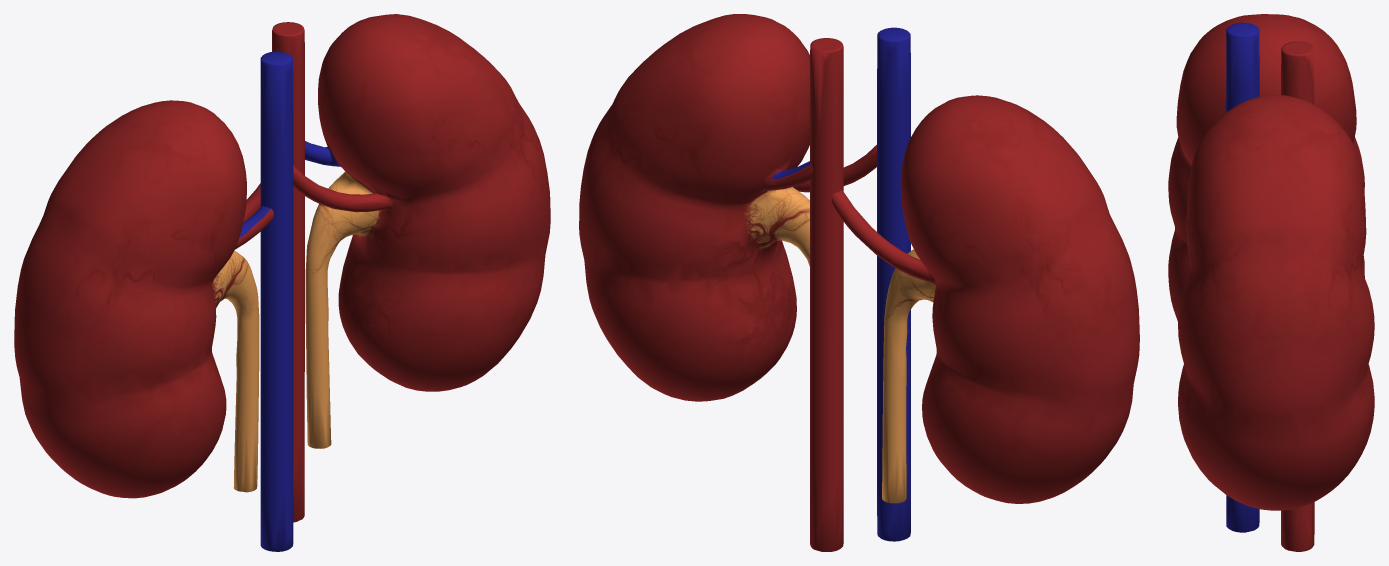
File: PRP_Kidney.glb
3 views of the same model, side by side, from view 1: azimuth 30°, elevation 25°; view 2: azimuth 150°, elevation 25°; view 3: azimuth 270°, elevation 25° (orthographic). The views are drawn at different scales.
Visible parts, largest first — view 1: kidney02:kidney03:Group12708_Kidney Tex_0; view 2: kidney02:kidney03:Group12708_Kidney Tex_0; view 3: kidney02:kidney03:Group12708_Kidney Tex_0.
Part boxes in pixels (x1,y1,x2,y2): kidney02:kidney03:Group12708_Kidney Tex_0: [14, 14, 550, 551]; kidney02:kidney03:Group12708_Kidney Tex_0: [579, 14, 1139, 551]; kidney02:kidney03:Group12708_Kidney Tex_0: [1168, 14, 1374, 551].
Size of the model in its own units: 1.71 by 1.55 by 0.5818.
Materials: 1 (1 with a texture image).
